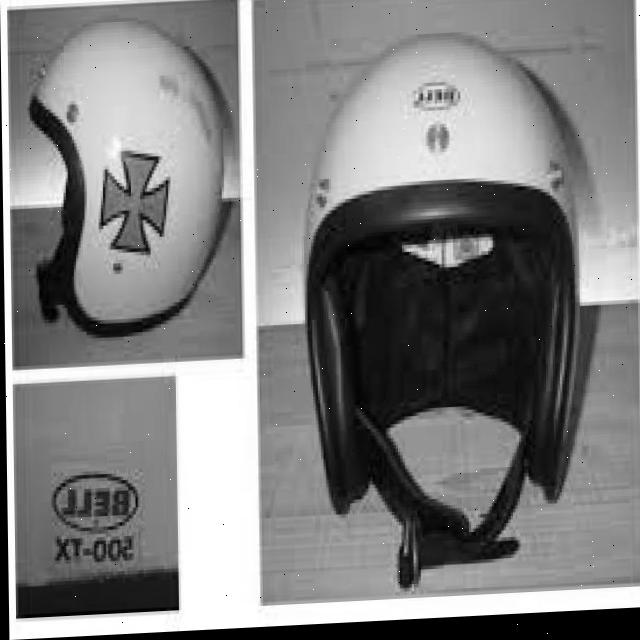Helmet: (28, 0, 592, 582)
